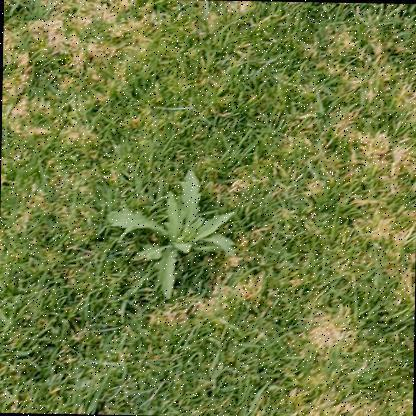Weeds: (104, 168, 235, 301)
